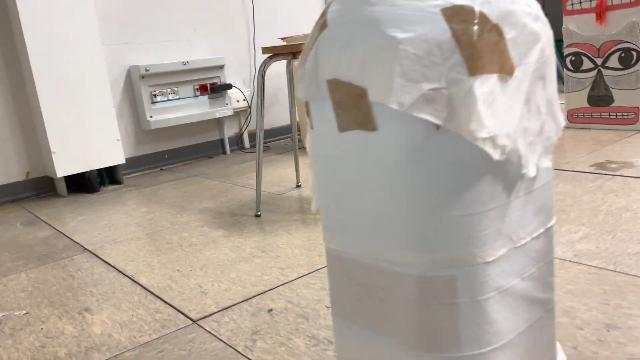Stool: (244, 34, 326, 222)
